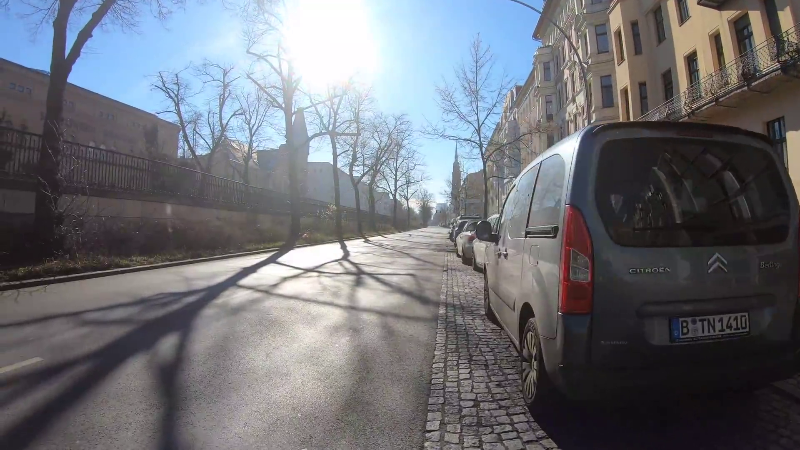Plate: (667, 312, 754, 338)
